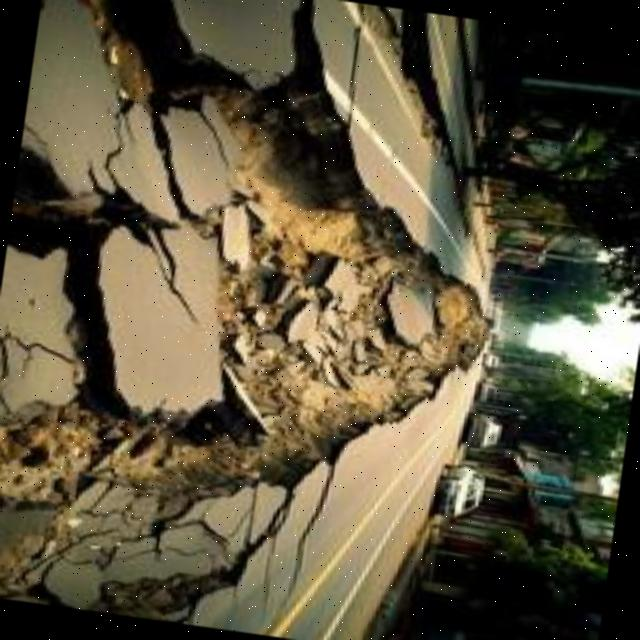road collapse: (0, 0, 573, 609)
